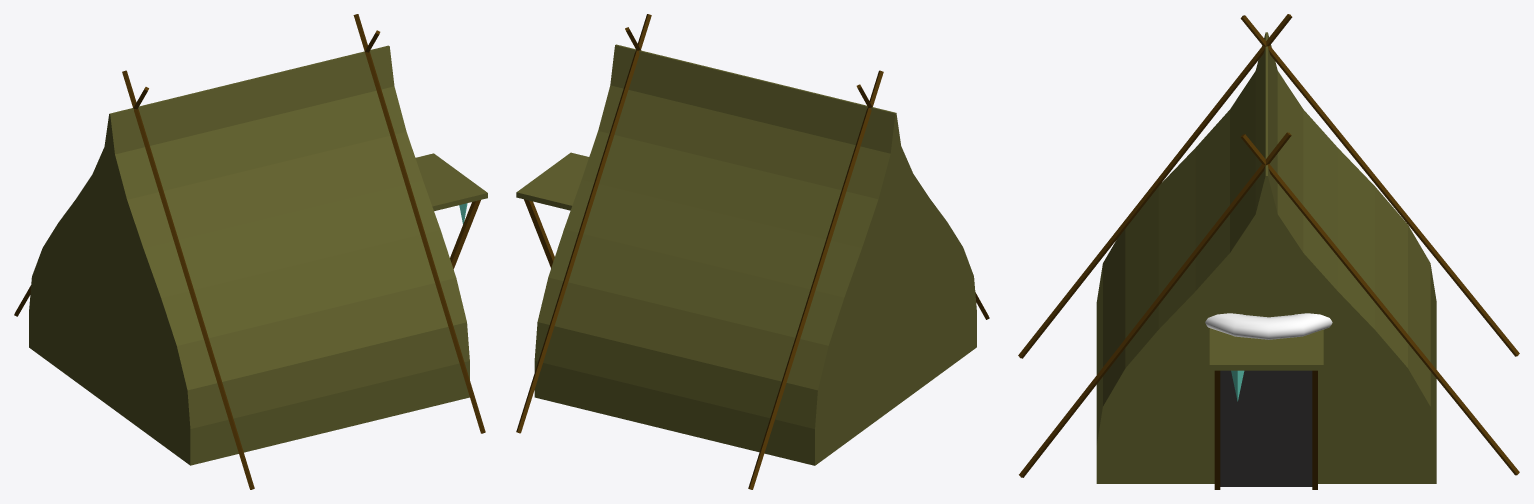
Rendered from NewTent.fbx.
3 views of the same model, side by side, from view 1: azimuth 30°, elevation 25°; view 2: azimuth 150°, elevation 25°; view 3: azimuth 270°, elevation 25° (orthographic). The views are drawn at different scales.
Visible parts, largest first — view 1: Cube, Cylinder.003, Cylinder.001, Cube.001, Cube.003; view 2: Cube, Cylinder, Cylinder.002, Cube.001, Cube.002; view 3: Cube, Cube.004, Cube.001, Cylinder.001, Cylinder.003, Cylinder.002, Cylinder, Torus, Cube.003, Cube.002.
Boxes of the visible parts, box(x1,y1,x2,y2) form: Cube: box(29, 45, 469, 465); Cylinder.003: box(122, 70, 254, 489); Cylinder.001: box(353, 14, 485, 433); Cube.001: box(415, 153, 487, 211); Cube.003: box(450, 200, 480, 268); Cube: box(534, 44, 976, 465); Cylinder: box(516, 14, 651, 433); Cylinder.002: box(748, 70, 883, 489); Cube.001: box(516, 152, 588, 210); Cube.002: box(524, 199, 554, 268); Cube: box(1096, 32, 1436, 483); Cube.004: box(1220, 370, 1312, 486); Cube.001: box(1209, 328, 1323, 370); Cylinder.001: box(1019, 132, 1291, 477); Cylinder.003: box(1018, 14, 1292, 358); Cylinder.002: box(1240, 15, 1519, 356); Cylinder: box(1240, 134, 1519, 475); Torus: box(1205, 313, 1332, 339); Cube.003: box(1214, 370, 1220, 489); Cube.002: box(1312, 370, 1317, 489).
Size of the model in its own units: 385 by 344 by 452.
